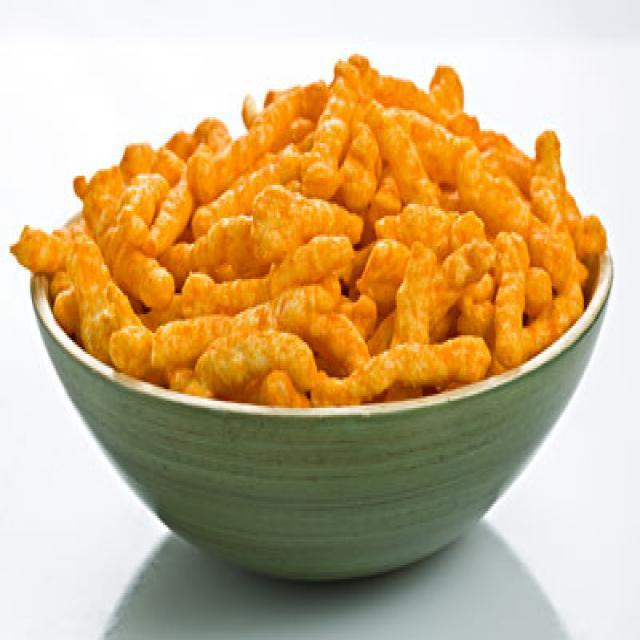Chips packaged: (86, 73, 568, 366)
